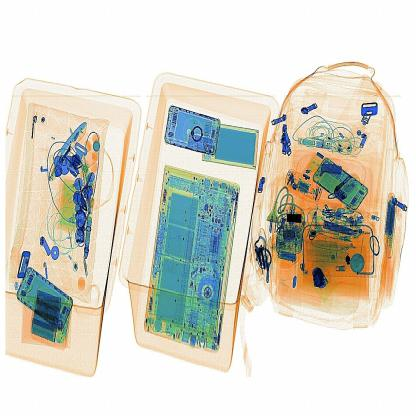scissors: (312, 265, 334, 296)
